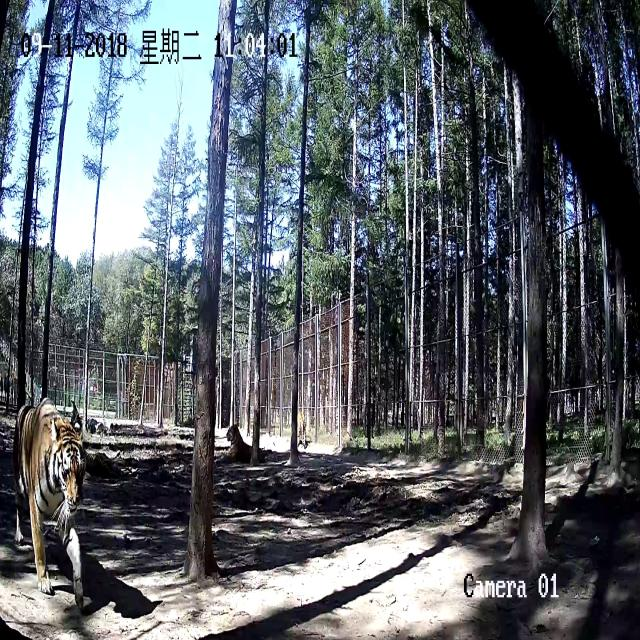Tiger: (8, 395, 99, 613), (203, 426, 277, 470), (287, 403, 315, 462), (87, 447, 135, 479)
